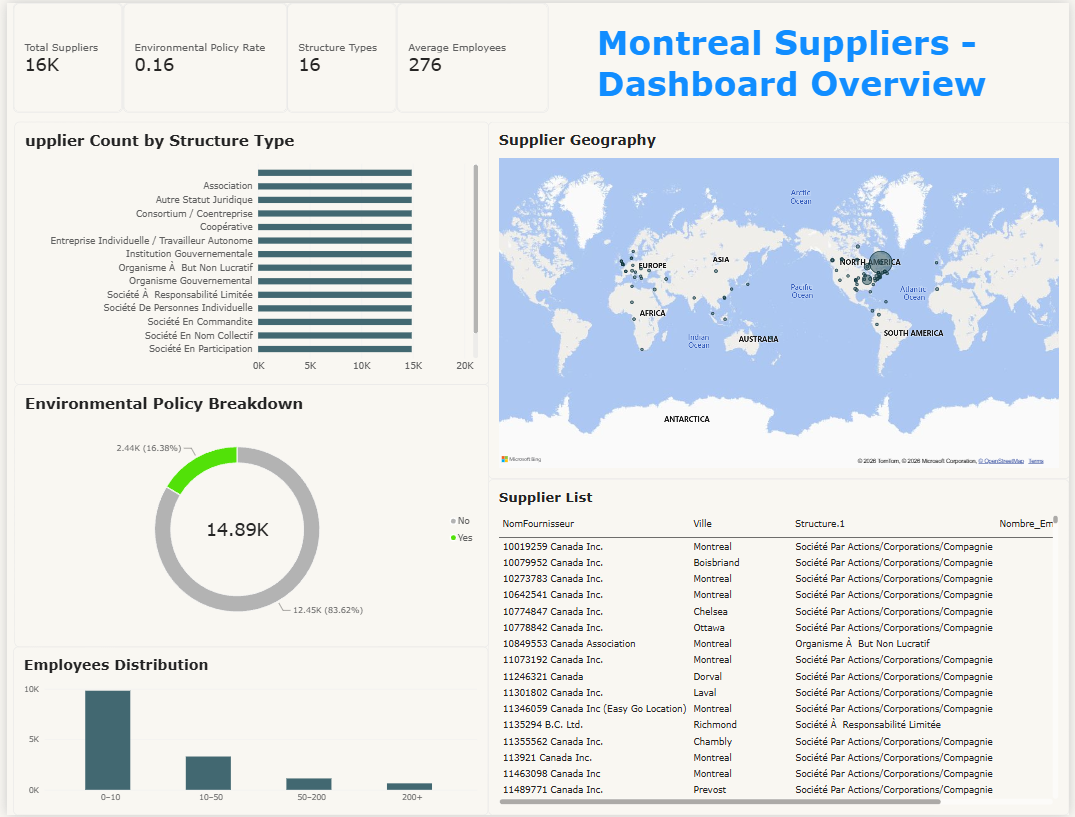

Layout of this report page (visuals, bound fields, positions):
{"tool":"powerbi","page":{"name":"Dashboard Overview","canvas":[1700,1300],"ordinal":0},"visuals":[{"type":"cardVisual","fields":{"Data":["DimDate.Total Suppliers"]},"box":[10.1,0,175.3,175.3],"z":0},{"type":"cardVisual","fields":{"Data":["DimFournisseur.Structure Types"]},"box":[448.5,0,175,175],"z":1000},{"type":"cardVisual","fields":{"Data":["FactFournisseur.Average Employees"]},"box":[623.9,0,242.8,175.3],"z":2000},{"type":"cardVisual","fields":{"Data":["FactFournisseur.Environmental Policy Rate"]},"box":[185.5,0,263,175.3],"z":3000},{"type":"clusteredBarChart","title":"upplier Count by Structure Type","fields":{"Y":["FactFournisseur.Supplier Count"],"Category":["DimFournisseur.Structure.1"]},"box":[11.2,190.3,759.1,421],"z":4000},{"type":"donutChart","title":"Environmental Policy Breakdown","fields":{"Category":["FactFournisseur.Politique_Dev_Durable"],"Y":["CountNonNull(FactFournisseur.Politique_Dev_Durable)"]},"box":[11.5,609.1,759,421],"z":5000},{"type":"map","title":"Supplier Geography","fields":{"Category":["FactFournisseur.État","FactFournisseur.Ville"],"Size":["CountNonNull(FactFournisseur.Ville)"]},"box":[770.1,189.7,930.8,571.4],"z":6000},{"type":"clusteredColumnChart","title":"Employees Distribution","fields":{"Category":["FactFournisseur.EmployeeBin"],"Y":["CountNonNull(FactFournisseur.EmployeeBin)"]},"box":[10.9,1029.7,760,269.7],"z":6001},{"type":"tableEx","title":"Supplier List","fields":{"Values":["FactFournisseur.NomFournisseur","FactFournisseur.Ville","FactFournisseur.Structure.1","FactFournisseur.Nombre_Employes","FactFournisseur.Politique_Dev_Durable"]},"box":[770.9,761.8,929.5,537.6],"z":6002},{"type":"textbox","box":[944.8,30.7,683.4,144.3],"z":6003}]}

Visuals, with their boxes in screenshot pixels (x1, y1, x2, y2), scaled from the page's 1700x1300 canvas onto the 1075x817 screenshot:
cardVisual - DimDate.Total Suppliers: x1=6 y1=0 x2=117 y2=110
cardVisual - DimFournisseur.Structure Types: x1=284 y1=0 x2=394 y2=110
cardVisual - FactFournisseur.Average Employees: x1=395 y1=0 x2=548 y2=110
cardVisual - FactFournisseur.Environmental Policy Rate: x1=117 y1=0 x2=284 y2=110
"upplier Count by Structure Type" clusteredBarChart: x1=7 y1=120 x2=487 y2=384
"Environmental Policy Breakdown" donutChart: x1=7 y1=383 x2=487 y2=647
"Supplier Geography" map: x1=487 y1=119 x2=1074 y2=478
"Employees Distribution" clusteredColumnChart: x1=7 y1=647 x2=487 y2=816
"Supplier List" tableEx: x1=487 y1=479 x2=1074 y2=816
textbox: x1=597 y1=19 x2=1030 y2=110
